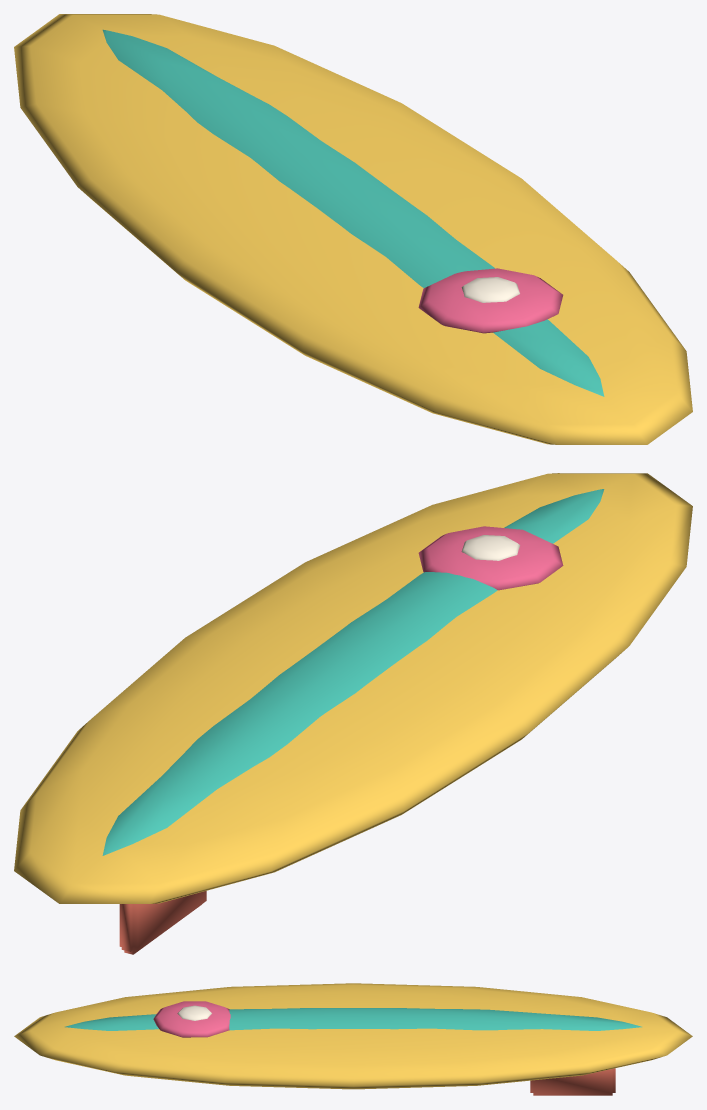
Rendered from Surfboard.fbx.
The picture shows the model from 3 angles, top to bottom: view 1: azimuth 30°, elevation 25°; view 2: azimuth 150°, elevation 25°; view 3: azimuth 270°, elevation 25°; orthographic projection. The views are drawn at different scales.
Parts seen in each view (by area): view 1: Surfboard; view 2: Surfboard; view 3: Surfboard.
Part boxes in pixels (box(x1,y1,x2,y2)): Surfboard: box(14, 14, 692, 444); Surfboard: box(14, 473, 692, 954); Surfboard: box(14, 983, 692, 1095).
Bounding box in the file's own units: 0.7728 × 0.305 × 2.23.
